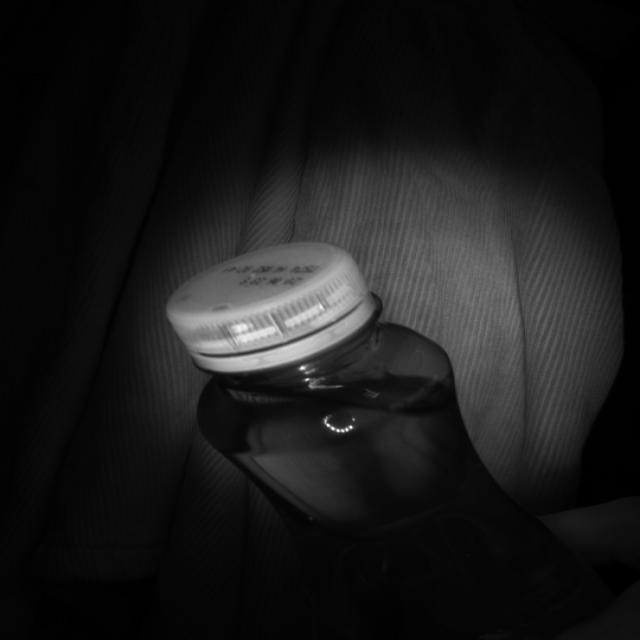Not Good: (169, 242, 376, 370)
